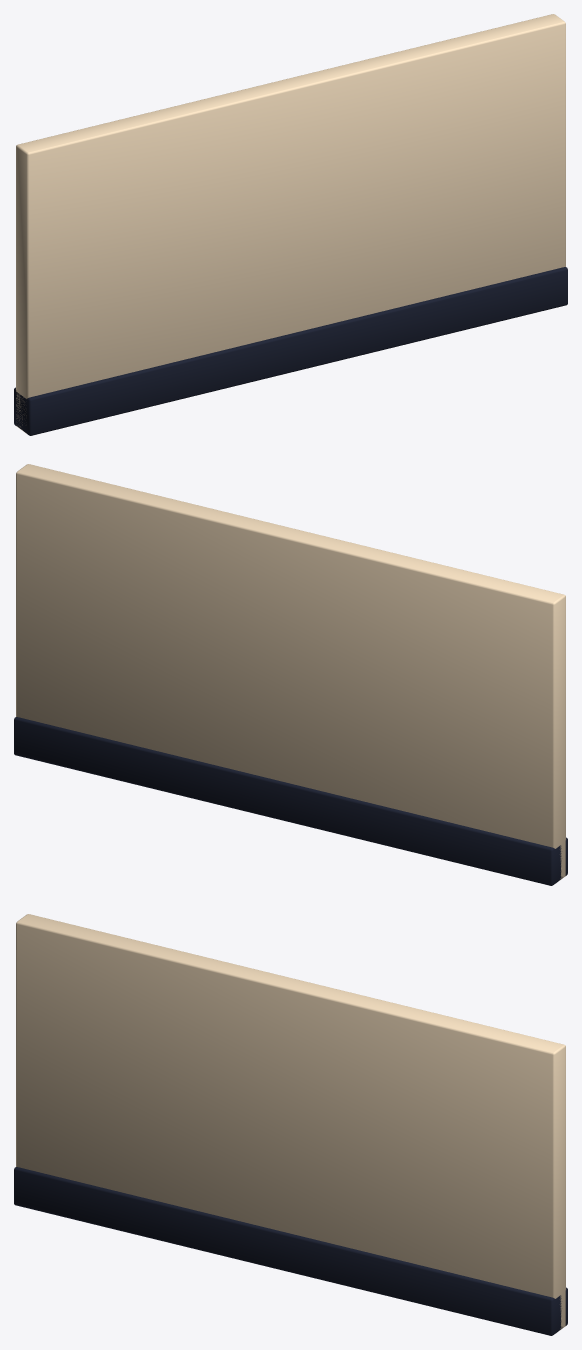
File: env_wall_panel_v2.glb
3 views of the same model, one above another, from view 1: azimuth 30°, elevation 25°; view 2: azimuth 150°, elevation 25°; view 3: azimuth 330°, elevation 25° (orthographic).
Parts seen in each view (by area): view 1: WallPanelV2; view 2: WallPanelV2; view 3: WallPanelV2.
Part boxes in pixels (left/top/right/bottom): WallPanelV2: left=14, top=14, right=567, bottom=435; WallPanelV2: left=14, top=464, right=567, bottom=885; WallPanelV2: left=14, top=914, right=567, bottom=1335.
Bounding box in the file's own units: 6 × 3 × 0.32.
